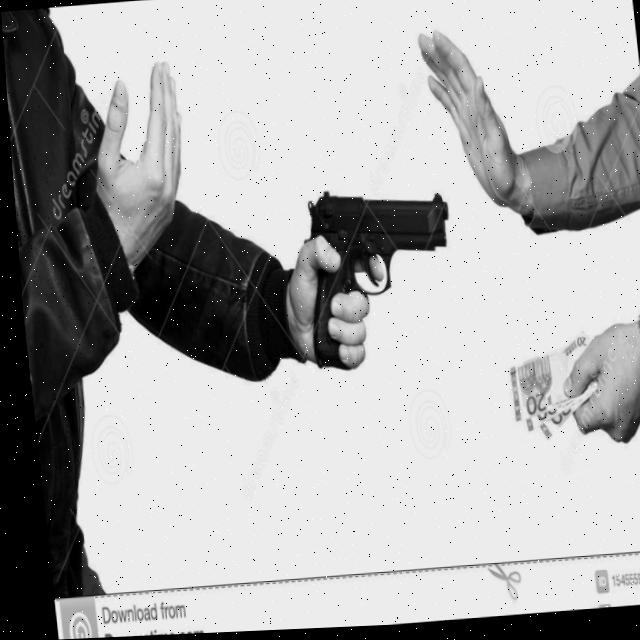pistol: (292, 183, 465, 378)
